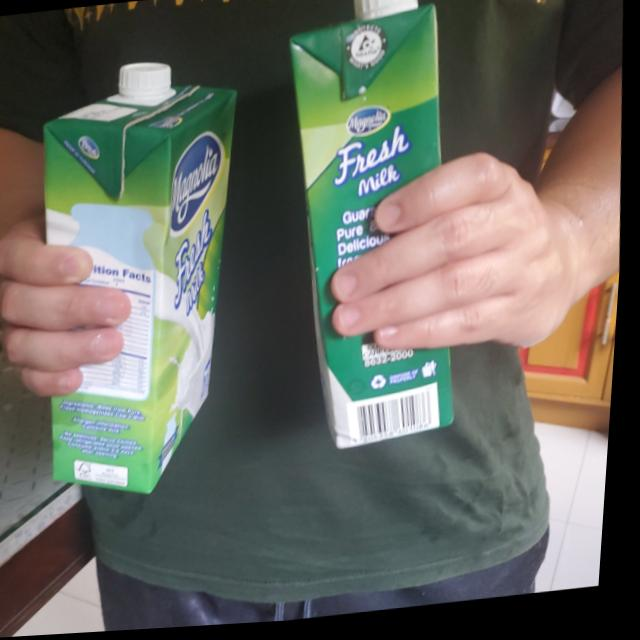milk: (21, 55, 258, 512), (269, 0, 483, 466)
